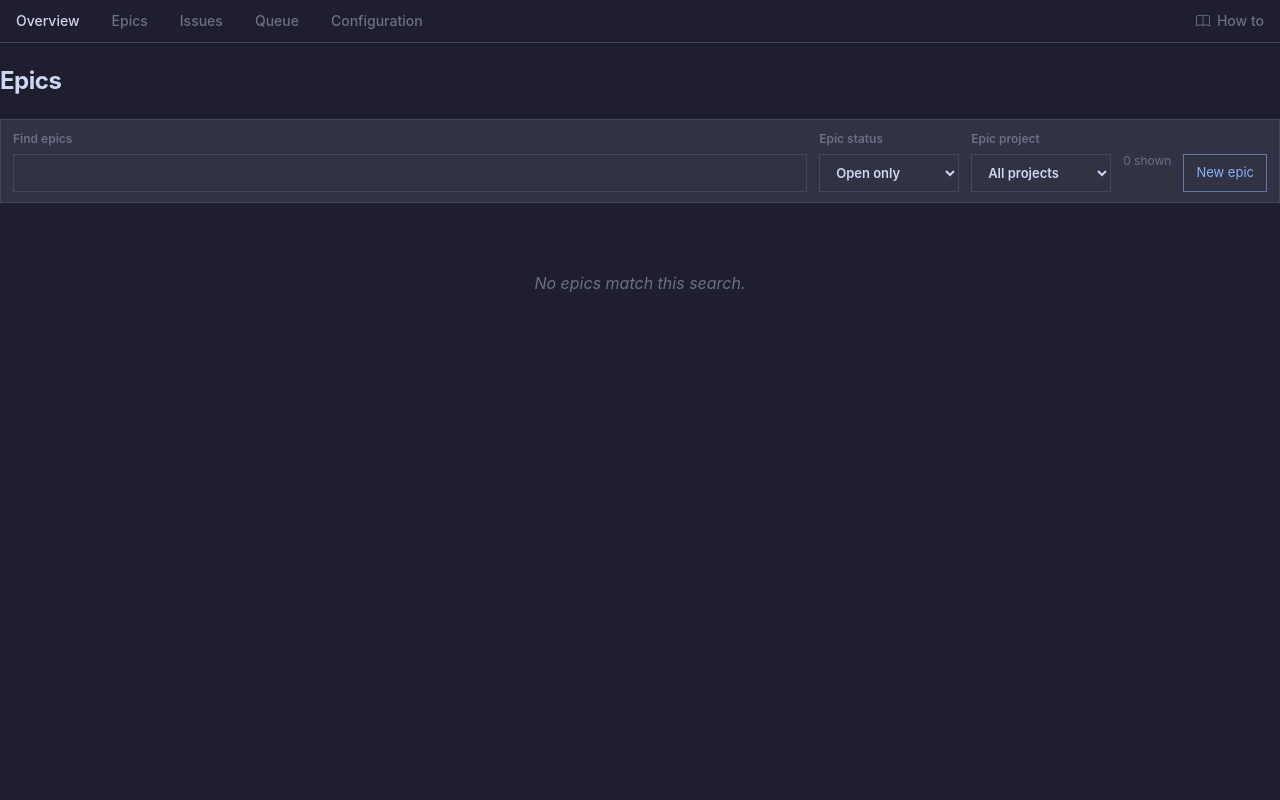
it: Factory interactions › explains every epic input and the selected Formula
Click the button "New epic": (1225, 173) [1183, 154, 1267, 192]
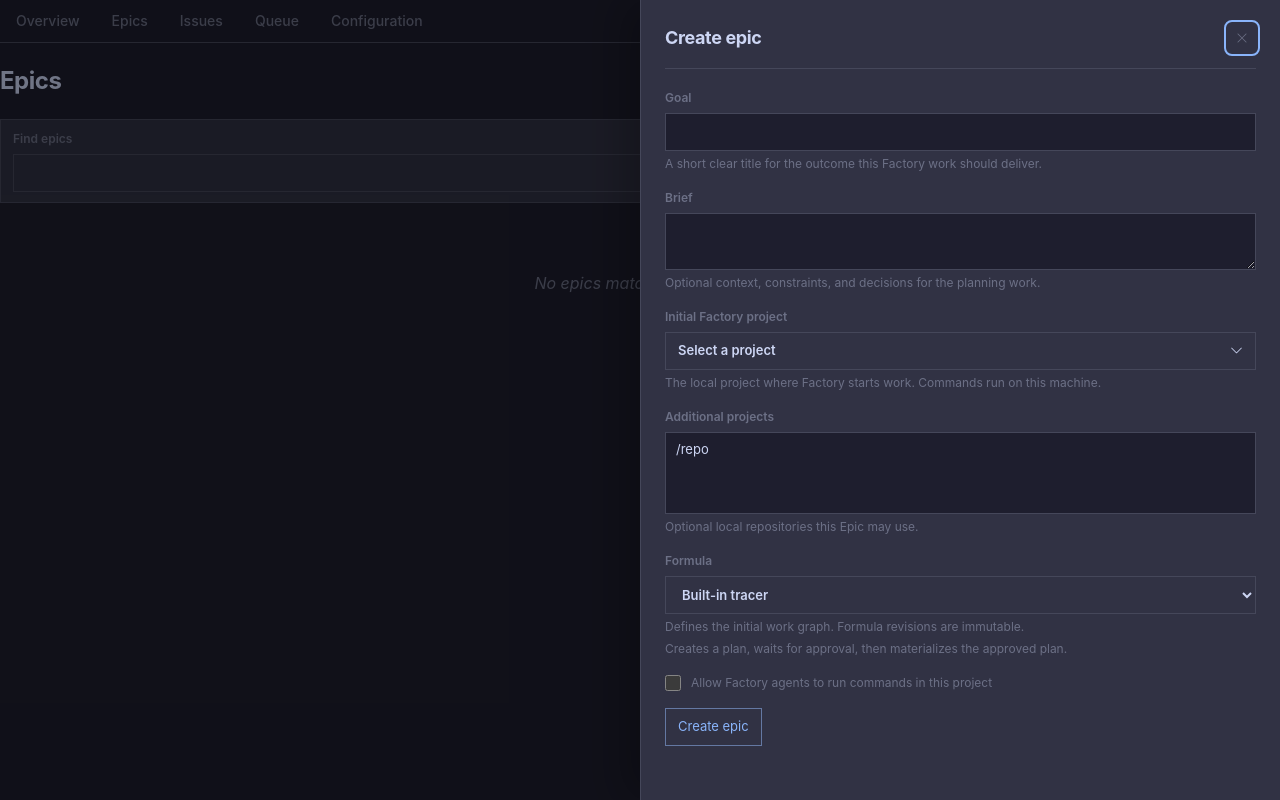
Expected: the text "A short clear title for the outcome this Factory work should deliver." is shown, [665, 156, 1042, 171]
Expected: the text "Optional context, constraints, and decisions for the planning work." is shown, [665, 275, 1040, 290]
Expected: the text "The local project where Factory starts work. Commands run on this machine." is shown, [665, 375, 1101, 390]
Select "Team · custom/team@2" in the dropdown labelled "Formula": (960, 595) [665, 576, 1256, 614]
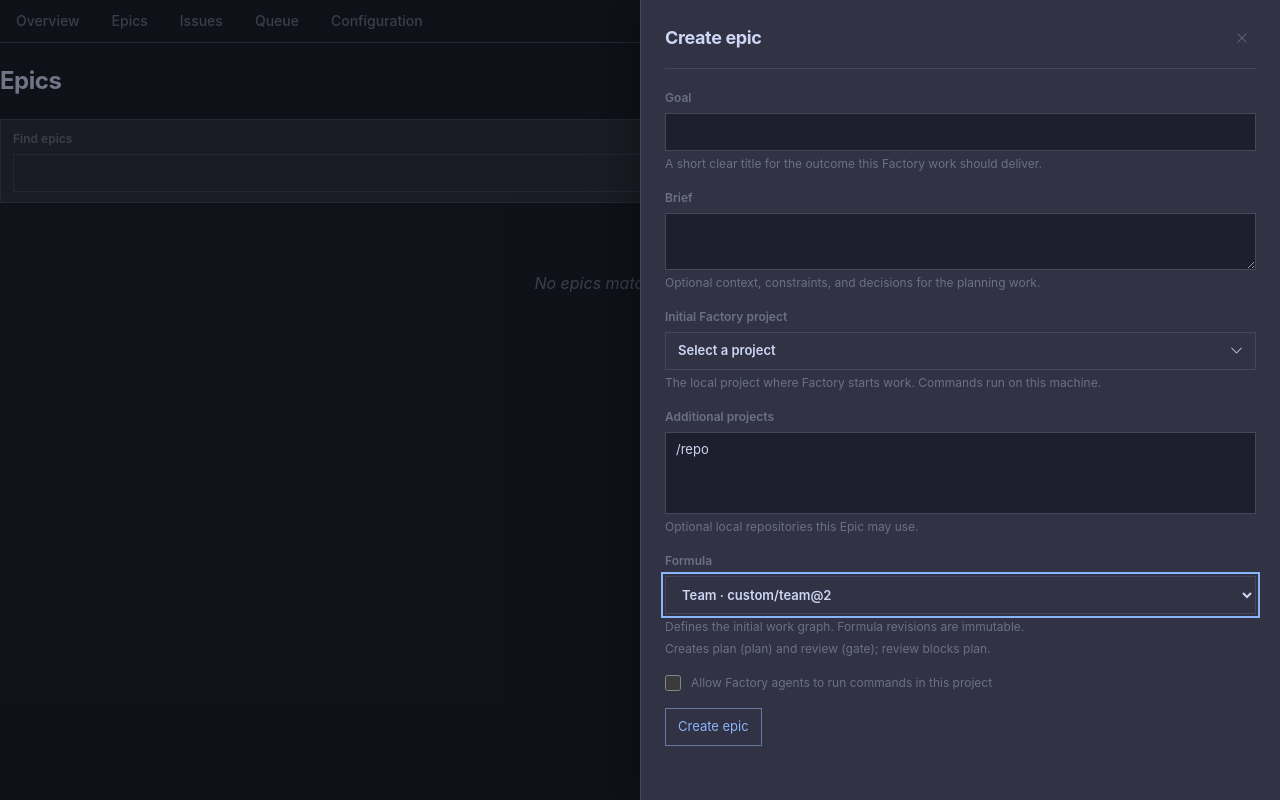
Expected: the text "Creates plan (plan) and review (gate); review blocks plan." is shown, [665, 641, 991, 656]
